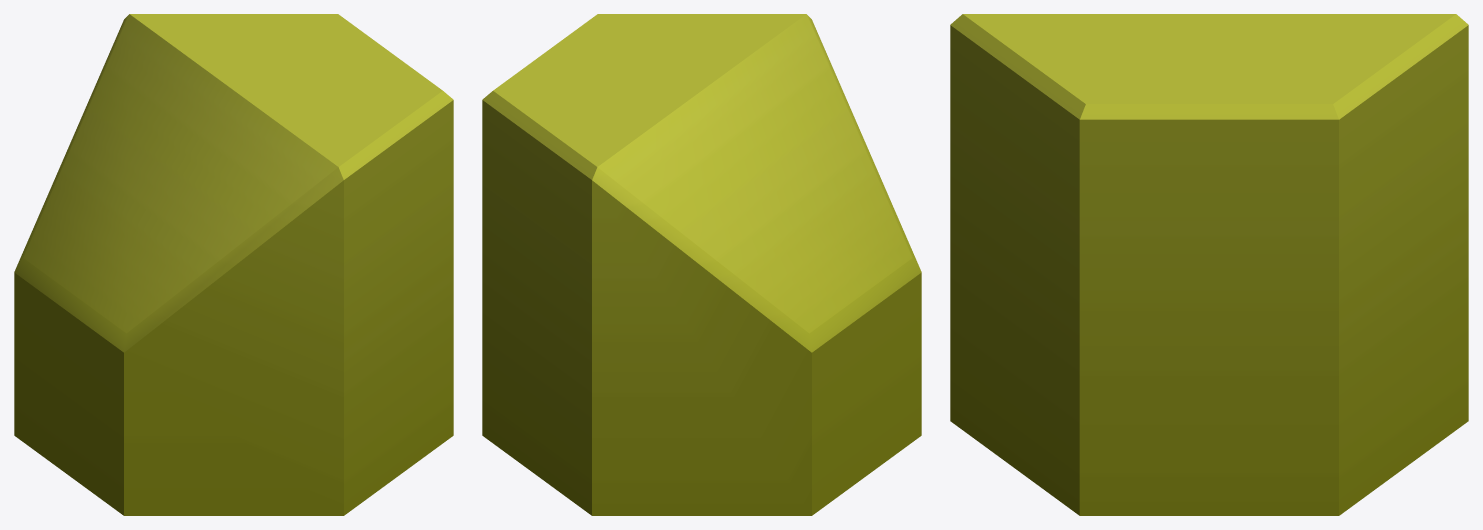
File: kaykit-medieval-hexagon-pack-hex-grass-sloped-high.glb
3 views of the same model, side by side, from view 1: azimuth 30°, elevation 25°; view 2: azimuth 150°, elevation 25°; view 3: azimuth 270°, elevation 25° (orthographic). The views are drawn at different scales.
Visible parts, largest first — view 1: hex_grass_sloped_high; view 2: hex_grass_sloped_high; view 3: hex_grass_sloped_high.
Boxes of the visible parts, x1,y1,x2,y2 form: hex_grass_sloped_high: [14, 14, 453, 515]; hex_grass_sloped_high: [482, 14, 921, 515]; hex_grass_sloped_high: [950, 14, 1468, 515].
Bounding box in the file's own units: 2 × 2 × 2.31.
1 material, 1 textured.
